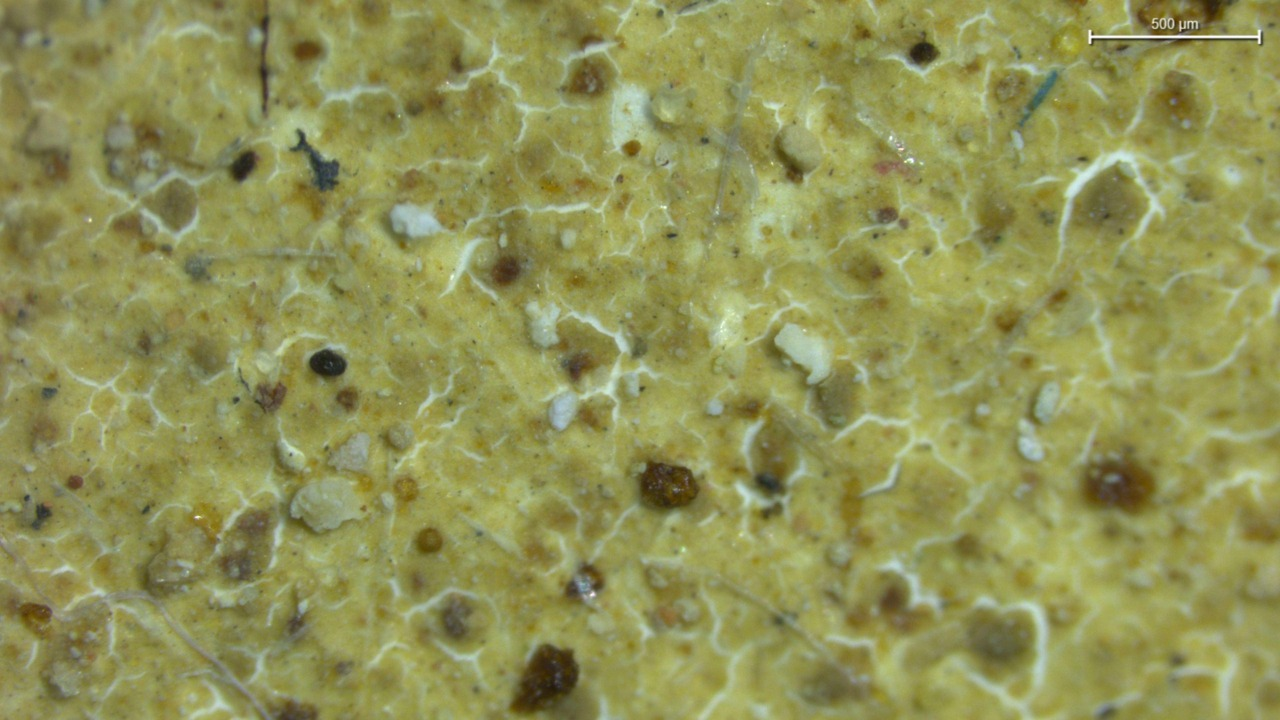microplastic_fragment: (146, 526, 215, 596), (290, 477, 363, 532), (774, 323, 833, 385), (638, 462, 699, 508), (389, 202, 442, 239)
